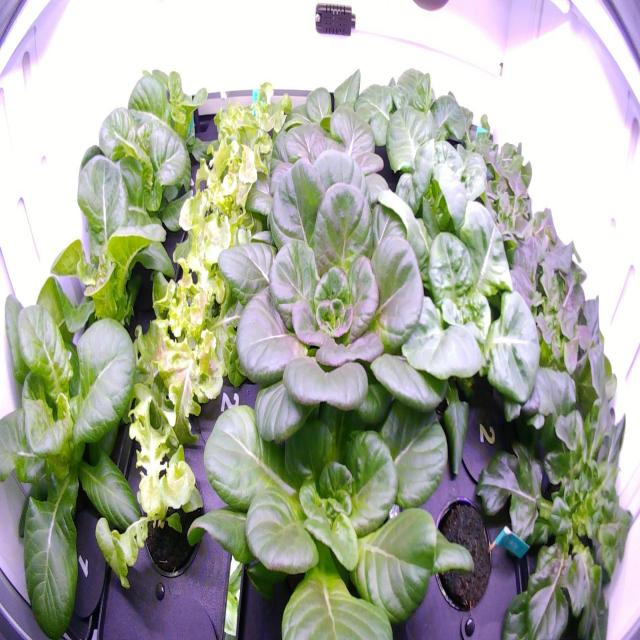pod: (426, 491, 499, 621)
young: (181, 353, 479, 640), (211, 144, 471, 452), (371, 174, 555, 480), (2, 276, 156, 635), (22, 152, 182, 347), (238, 98, 408, 267), (72, 100, 206, 260), (371, 58, 493, 213), (271, 54, 403, 172), (115, 54, 224, 192)
